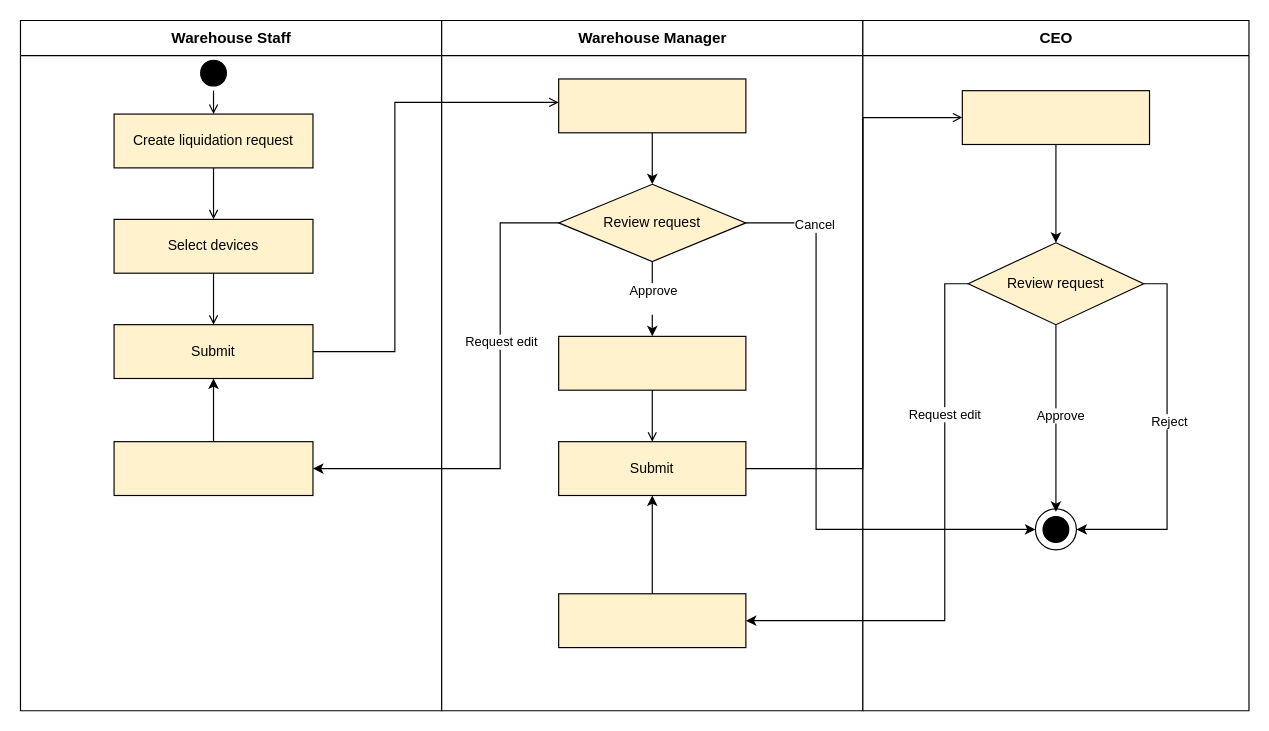
The diagram is 1269 pixels wide and 731 high, and some of its shapes have lost their labels. Here are the shapes that lost their labels. From the top down, the centre of each, then its label:
At point (652, 105): "View liquidation request".
At point (1055, 117): "View liquidation order".
At point (652, 362): "Enter liquidation price + Select customer".
At point (213, 468): "Update liquidation request".
At point (652, 620): "Update".
